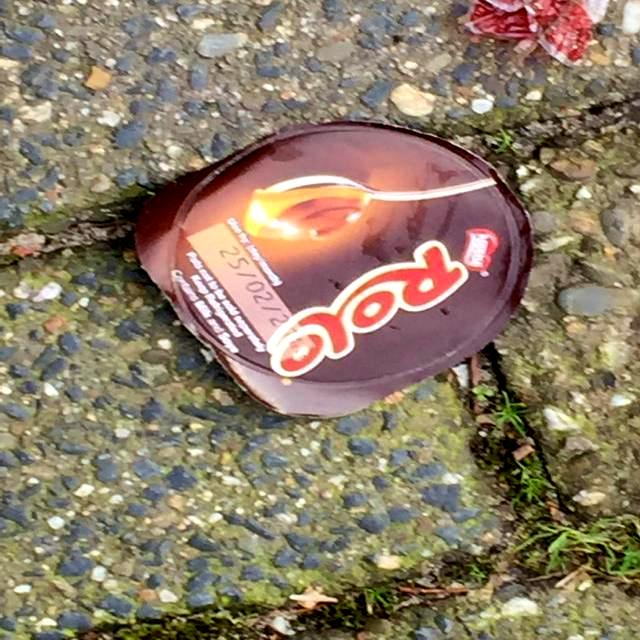Paper: (121, 114, 537, 424)
